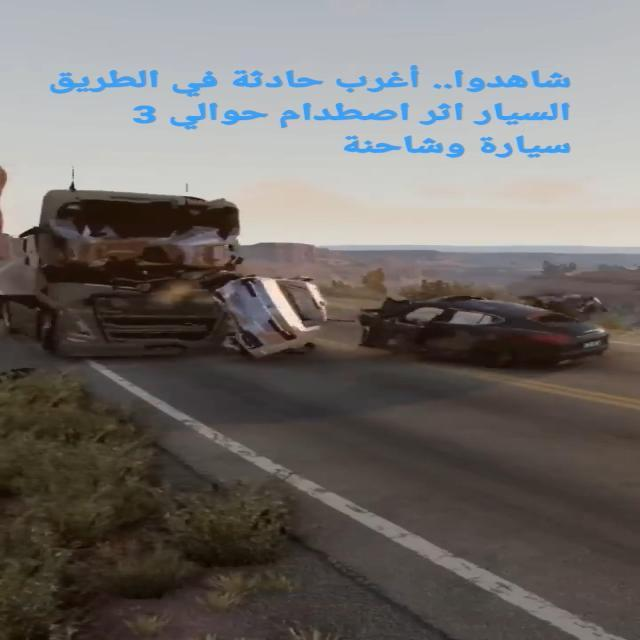accident: (359, 282, 617, 366), (213, 250, 335, 353)
